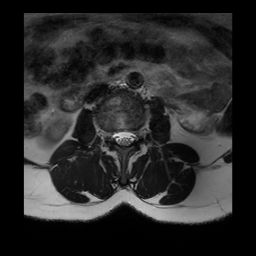CCS_normal: (120, 124, 128, 154)
LFS_normal: (136, 120, 144, 145)
LLS_normal: (128, 122, 136, 150)
RFS_normal: (104, 122, 112, 145)
RLS_normal: (112, 122, 120, 150)
